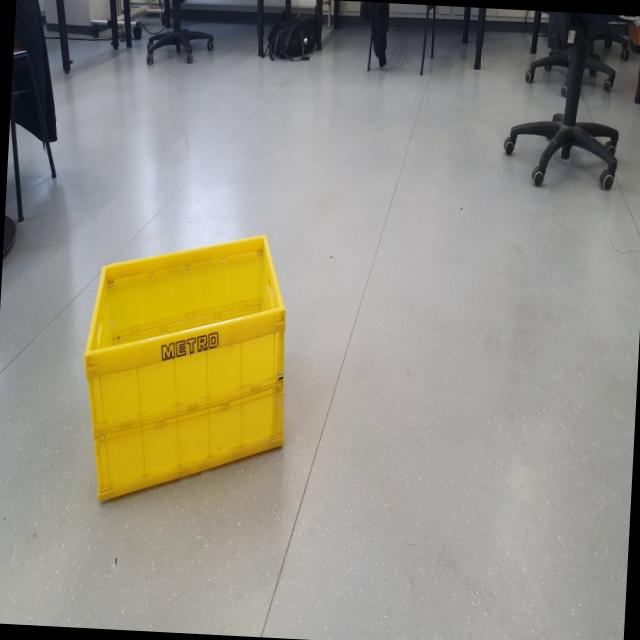box: (69, 221, 302, 518)
